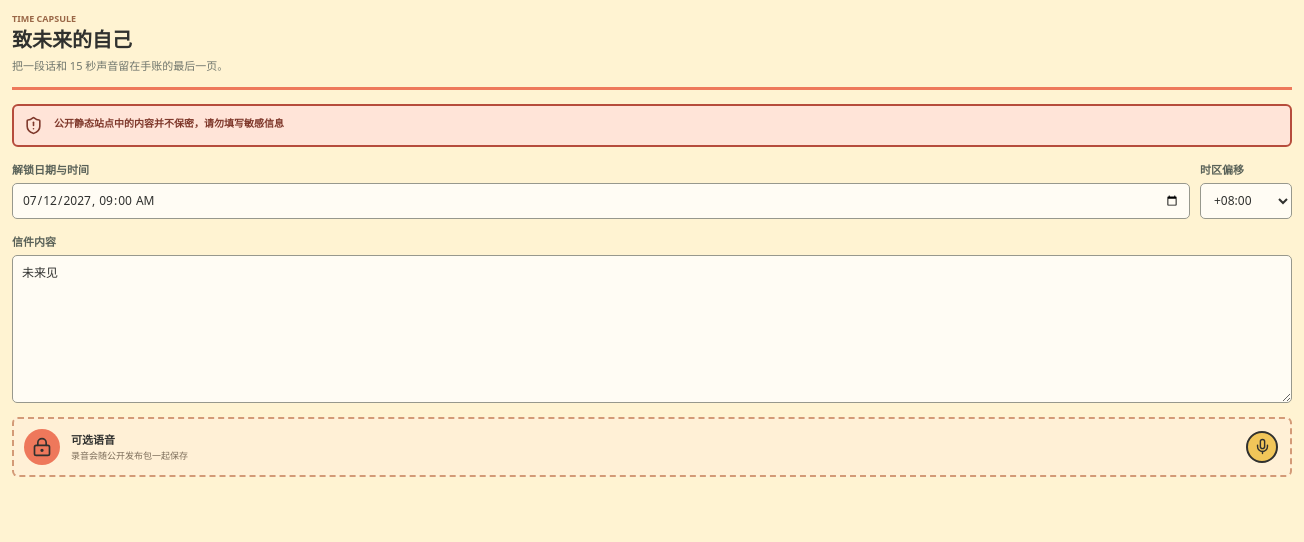
shows the privacy boundary and maps microphone denial
Expected: the text "公开静态站点中的内容并不保密，请勿填写敏感信息" is shown, [54, 116, 284, 130]
Click the button named "开始录音". click: click(1262, 447)
box: [1246, 431, 1278, 463]
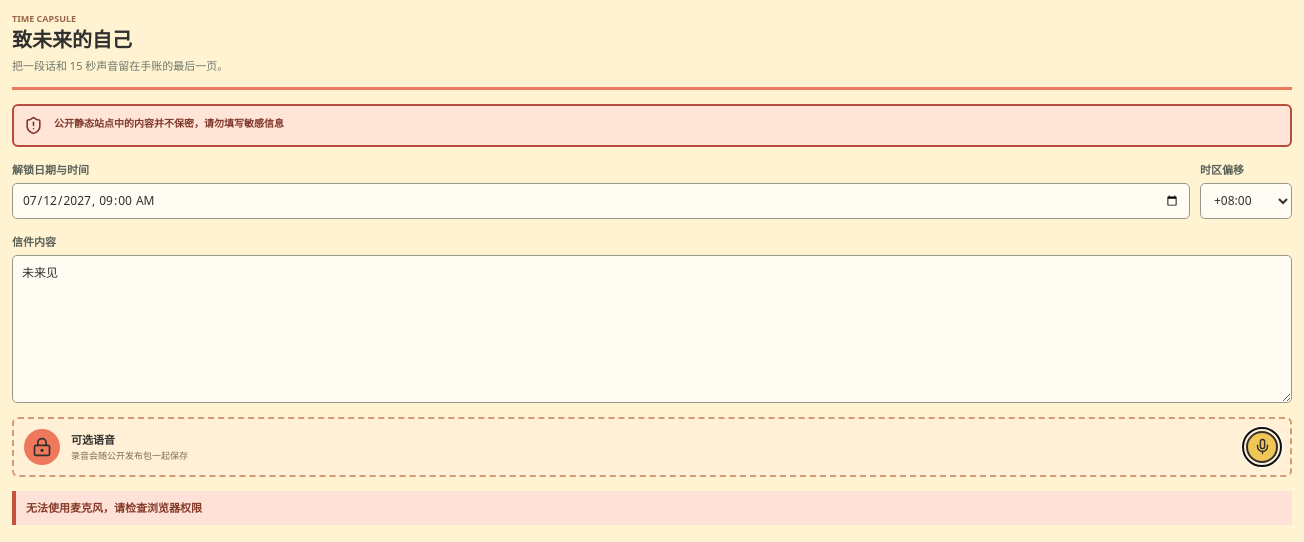
Now the text "无法使用麦克风，请检查浏览器权限" is shown, box [12, 491, 1292, 525]
